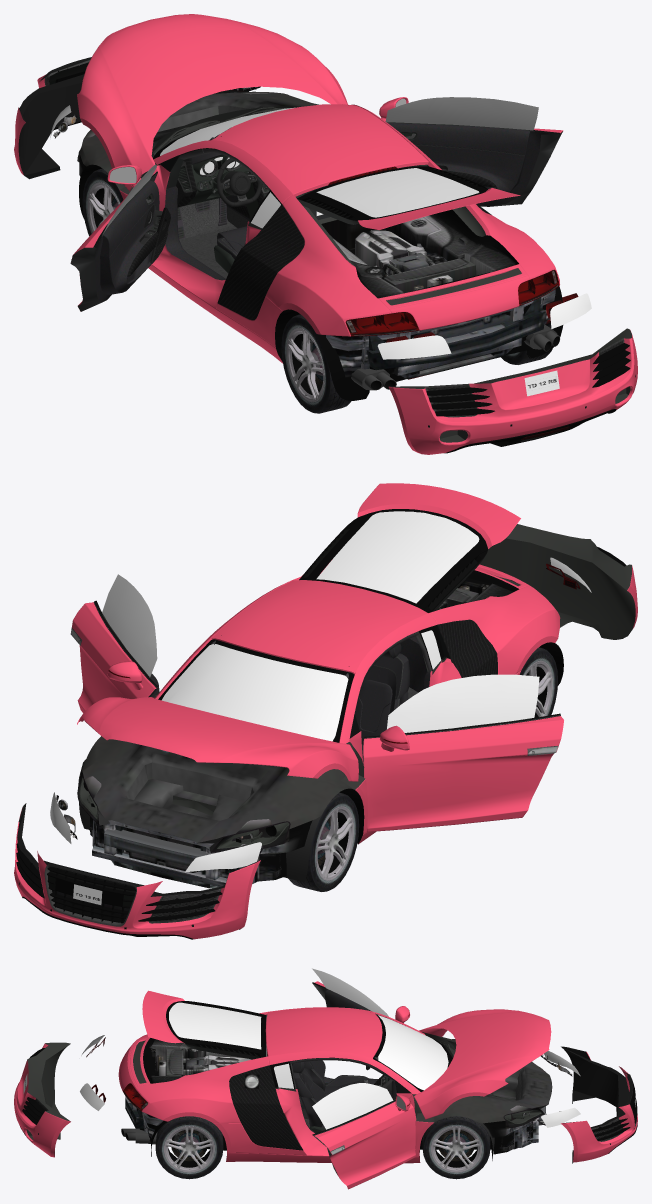
File: car.glb
3 views of the same model, one above another, from view 1: azimuth 30°, elevation 25°; view 2: azimuth 150°, elevation 25°; view 3: azimuth 270°, elevation 25° (orthographic). The views are drawn at different scales.
Parts seen in each view (by area): view 1: _gltfNode_0, _gltfNode_3, _gltfNode_5, _gltfNode_15, _gltfNode_24, _gltfNode_19, _gltfNode_16, _gltfNode_9, _gltfNode_12, _gltfNode_27, _gltfNode_71, _gltfNode_7 (+7 smaller); view 2: _gltfNode_0, _gltfNode_3, _gltfNode_18, _gltfNode_5, _gltfNode_30, _gltfNode_16, _gltfNode_9, _gltfNode_12, _gltfNode_21, _gltfNode_13, _gltfNode_26, _gltfNode_8 (+7 smaller); view 3: _gltfNode_0, _gltfNode_3, _gltfNode_5, _gltfNode_26, _gltfNode_73, _gltfNode_75, _gltfNode_12, _gltfNode_30, _gltfNode_9, _gltfNode_16, _gltfNode_27, _gltfNode_15 (+9 smaller).
Part boxes in pixels (x1,y1,x2,y2): _gltfNode_0: [77, 91, 563, 400]; _gltfNode_3: [119, 104, 559, 363]; _gltfNode_5: [77, 14, 347, 191]; _gltfNode_15: [388, 330, 637, 454]; _gltfNode_24: [387, 122, 562, 206]; _gltfNode_19: [70, 171, 170, 311]; _gltfNode_16: [390, 328, 635, 453]; _gltfNode_9: [316, 168, 479, 217]; _gltfNode_12: [18, 57, 249, 179]; _gltfNode_27: [385, 97, 538, 130]; _gltfNode_71: [281, 314, 351, 413]; _gltfNode_7: [297, 166, 487, 224]; _gltfNode_0: [77, 570, 563, 888]; _gltfNode_3: [155, 559, 560, 843]; _gltfNode_18: [363, 716, 563, 831]; _gltfNode_5: [77, 697, 358, 781]; _gltfNode_30: [161, 644, 348, 741]; _gltfNode_16: [479, 524, 635, 639]; _gltfNode_9: [316, 511, 479, 603]; _gltfNode_12: [16, 803, 259, 939]; _gltfNode_21: [387, 674, 539, 732]; _gltfNode_13: [14, 807, 260, 939]; _gltfNode_26: [72, 602, 156, 713]; _gltfNode_8: [357, 483, 520, 548]; _gltfNode_0: [121, 1013, 552, 1160]; _gltfNode_3: [118, 1007, 433, 1163]; _gltfNode_5: [414, 1009, 551, 1119]; _gltfNode_26: [314, 1094, 416, 1189]; _gltfNode_73: [422, 1116, 490, 1179]; _gltfNode_75: [155, 1116, 223, 1179]; _gltfNode_12: [561, 1046, 637, 1163]; _gltfNode_30: [378, 1015, 448, 1090]; _gltfNode_9: [169, 1003, 261, 1049]; _gltfNode_16: [16, 1042, 70, 1156]; _gltfNode_27: [312, 1083, 393, 1129]; _gltfNode_15: [14, 1043, 70, 1157].
Bounding box in the file's own units: 4.17 × 1.63 × 6.87.
Materials: 4 (1 with a texture image).
